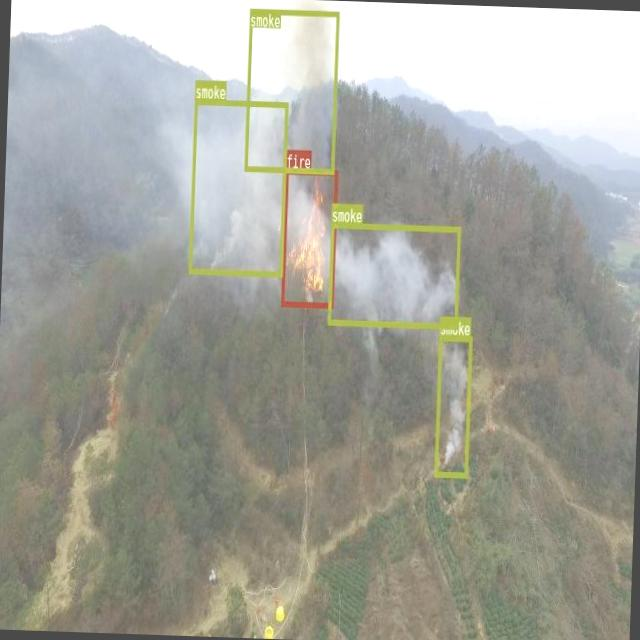fire: (280, 167, 337, 307)
smoke: (188, 98, 288, 274), (244, 8, 338, 174), (326, 222, 459, 327), (434, 334, 472, 476)
